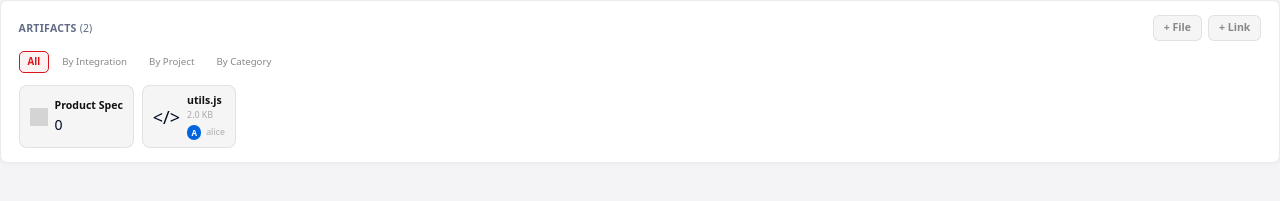
ArtifactsPanel › canceling confirmation returns to normal context menu
Expected: the text "Product Spec" is shown, left=55, top=98, right=123, bottom=114
Right-click the text "Product Spec" at (76, 117), box left=19, top=86, right=134, bottom=148
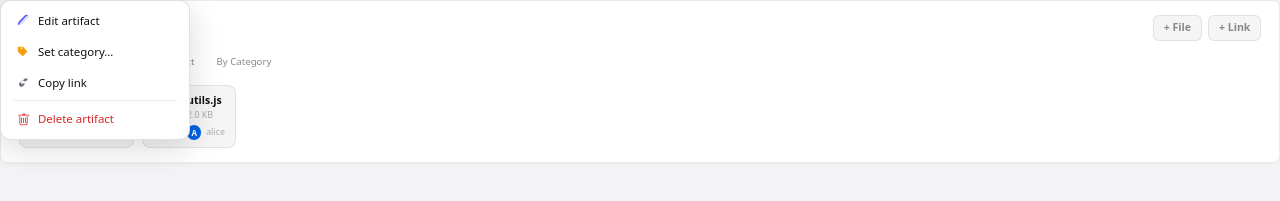
Click the button "Delete artifact" at (95, 119), box left=5, top=104, right=185, bottom=135
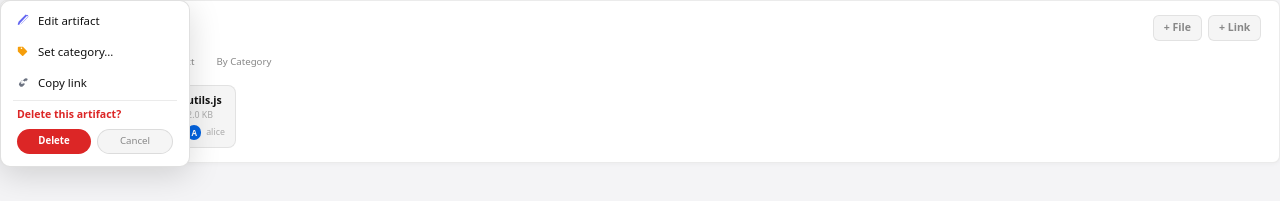
Result: the text "Delete this artifact?" is shown at left=17, top=108, right=121, bottom=122
Click the button "Cancel" at (135, 142), box left=97, top=129, right=173, bottom=154
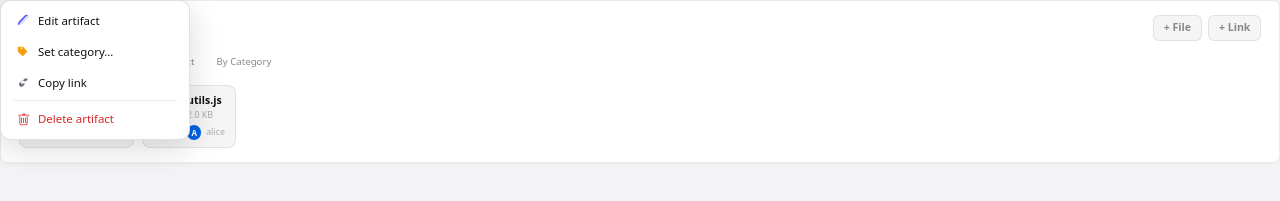
Result: the button "Delete artifact" is shown at left=5, top=104, right=185, bottom=135
Result: the text "Delete this artifact?" is gone
